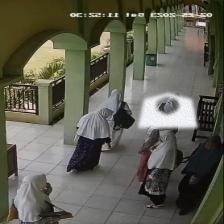Mukena: (138, 93, 197, 127)
